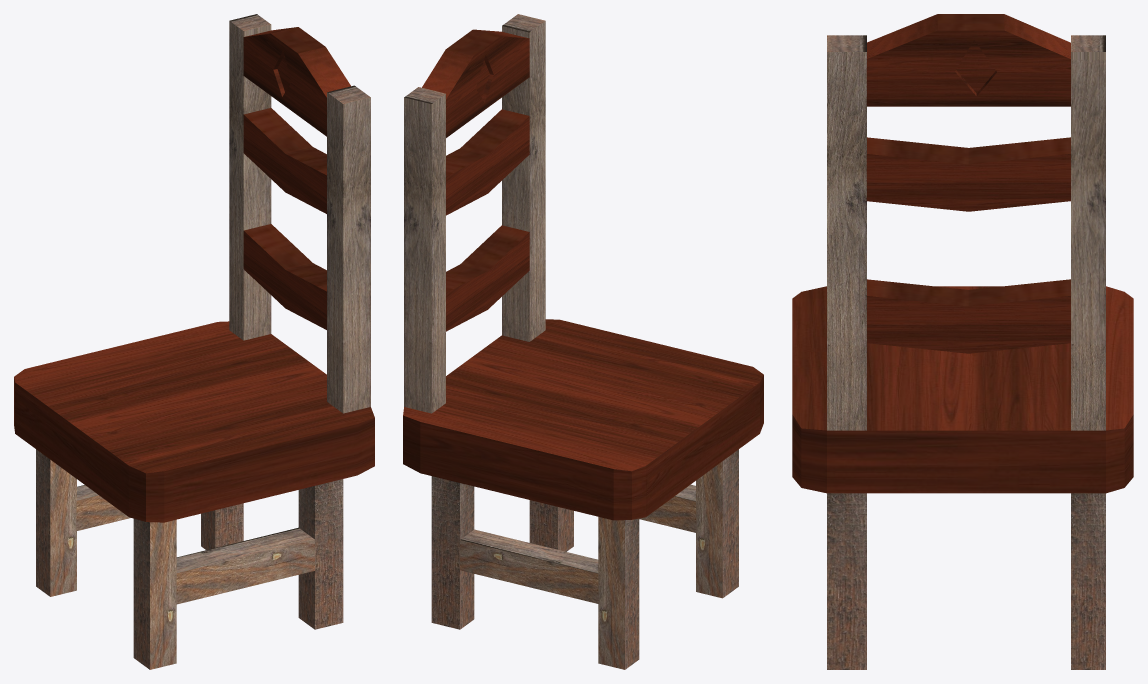
File: chair.fbx
3 renders of one model, left to right at view 1: azimuth 30°, elevation 25°; view 2: azimuth 150°, elevation 25°; view 3: azimuth 270°, elevation 25°, orthographic. The views are drawn at different scales.
Visible parts, largest first — view 1: Chair; view 2: Chair; view 3: Chair.
Part boxes in pixels (x1=…): Chair: x1=14, y1=14, x2=374, y2=669; Chair: x1=403, y1=14, x2=763, y2=669; Chair: x1=792, y1=14, x2=1133, y2=669.
Bounding box in the file's own units: 63.6 × 135 × 63.6.
Materials: 2 (2 with a texture image).
